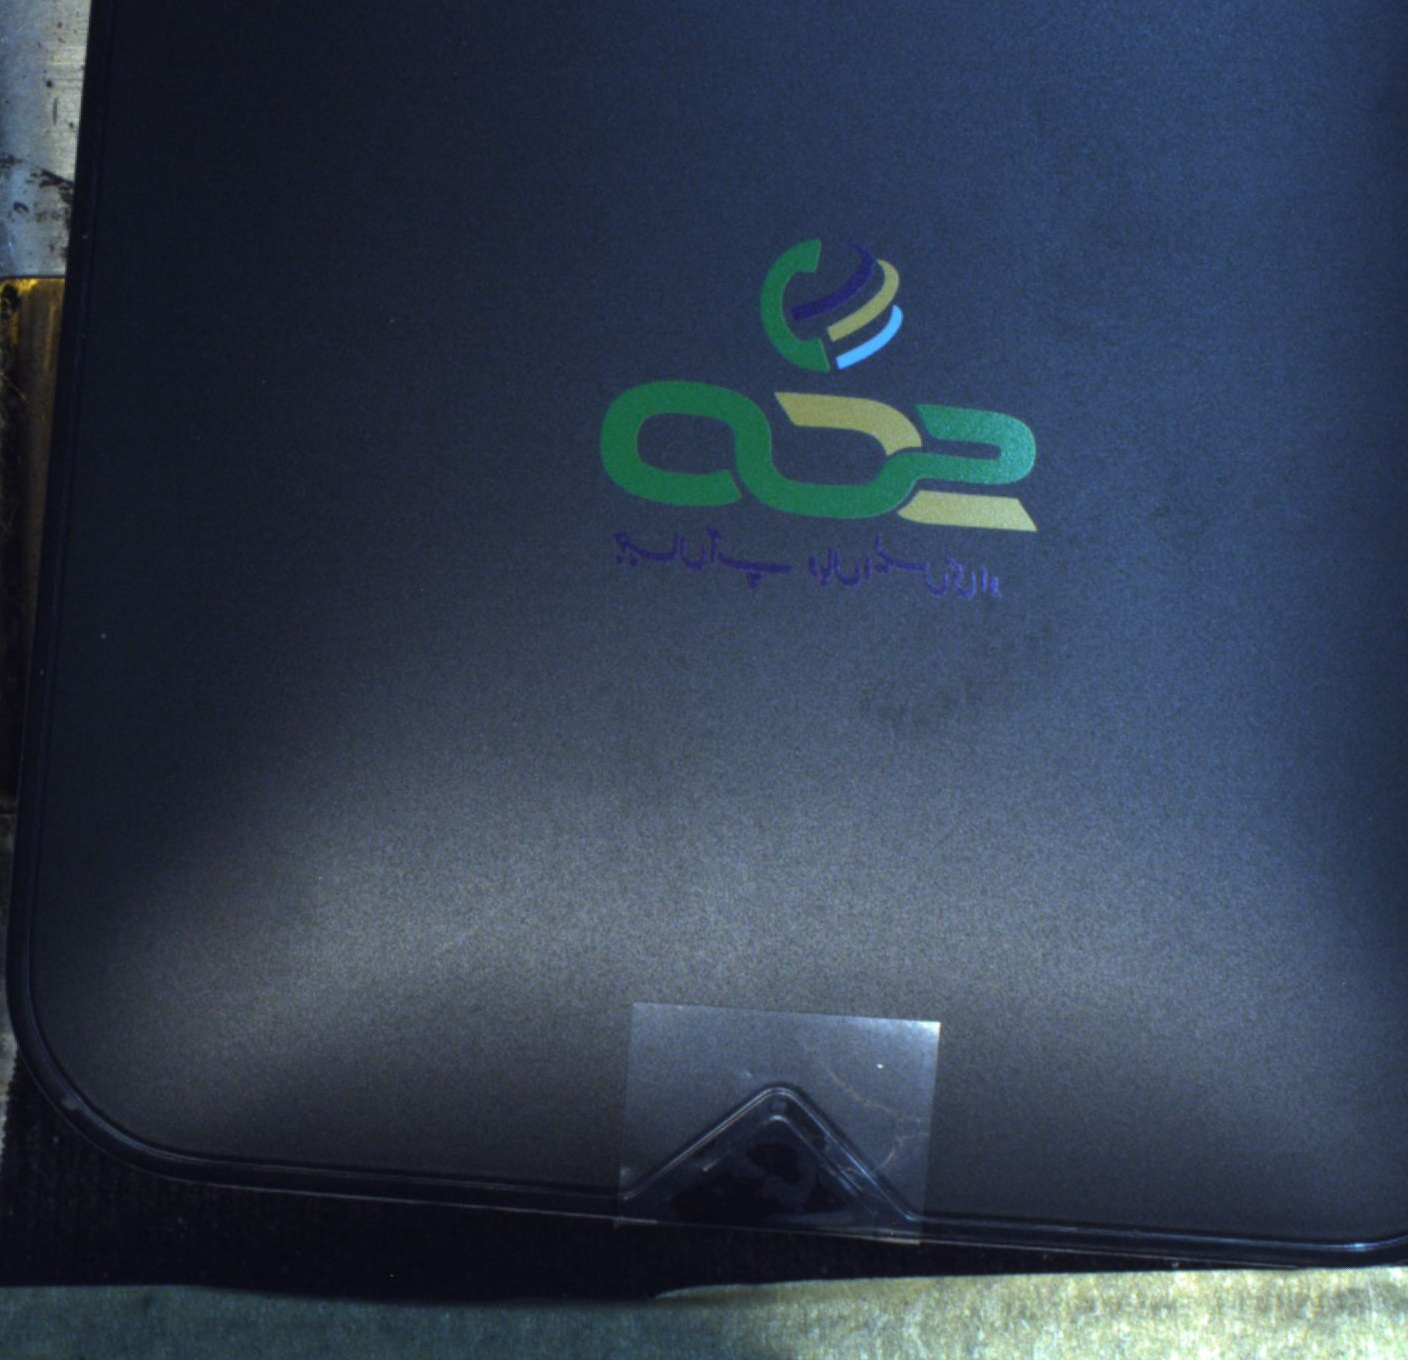BZ_HG680PSCOFirbeHome: (569, 194, 1089, 615)
